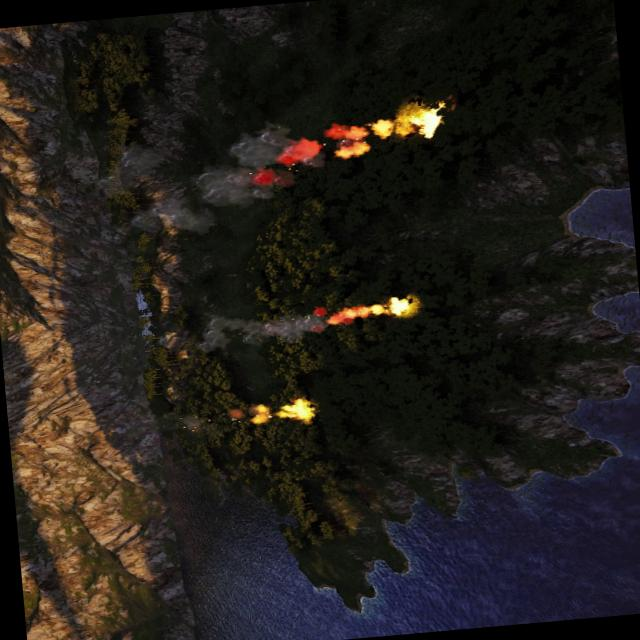fire: (324, 115, 401, 159), (322, 300, 385, 326), (406, 102, 447, 140), (278, 398, 313, 422), (388, 290, 418, 312)
smoke: (99, 108, 400, 239), (199, 300, 383, 350), (178, 402, 276, 432)
